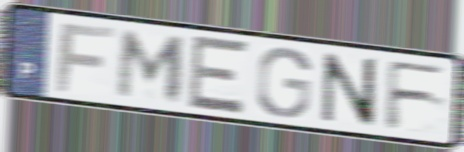E: (185, 33, 252, 117)
F: (383, 58, 451, 132), (53, 21, 118, 95)
G: (253, 45, 314, 120)
M: (113, 28, 190, 104)
N: (320, 50, 380, 130)
